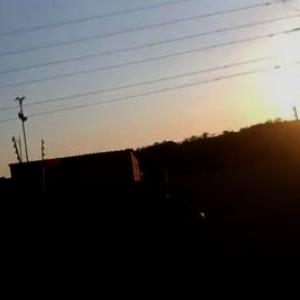follow: (130, 157, 208, 299)
